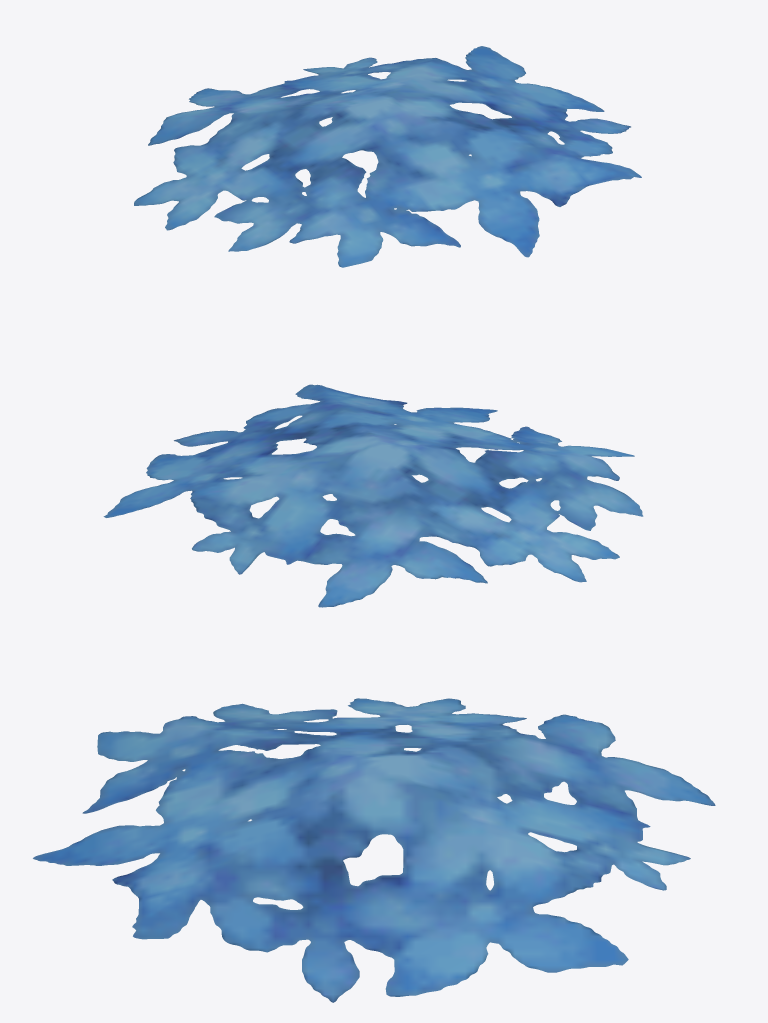
The model's file is cs_chengshi_xuyuanshuye_002.FBX.
3 renders of one model, top to bottom at view 1: azimuth 30°, elevation 25°; view 2: azimuth 150°, elevation 25°; view 3: azimuth 270°, elevation 25°, orthographic. The views are drawn at different scales.
Parts seen in each view (by area): view 1: cs_chengshi_xuyuanshuye_002; view 2: cs_chengshi_xuyuanshuye_002; view 3: cs_chengshi_xuyuanshuye_002.
Part boxes in pixels (x1,y1,x2,y2): cs_chengshi_xuyuanshuye_002: [134, 46, 641, 267]; cs_chengshi_xuyuanshuye_002: [103, 384, 643, 607]; cs_chengshi_xuyuanshuye_002: [33, 698, 715, 1002].
Size of the model in its own units: 74.95 by 74.95 by 10.
